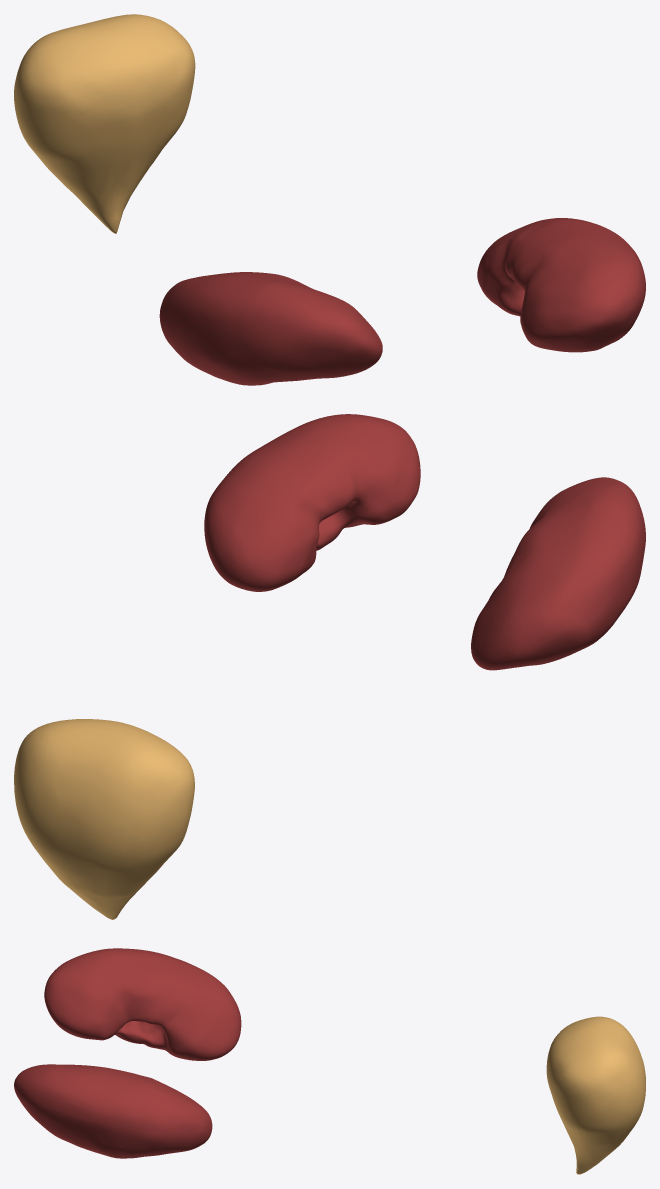
The model's file is urinary.glb.
3 views of the same model, one above another, from view 1: azimuth 30°, elevation 25°; view 2: azimuth 150°, elevation 25°; view 3: azimuth 270°, elevation 25° (orthographic). The views are drawn at different scales.
Parts seen in each view (by area): view 1: Бүйрек, Қуық; view 2: Бүйрек, Қуық; view 3: Бүйрек, Қуық.
Boxes of the visible parts, bbox=[...] form: Бүйрек: bbox=[159, 218, 645, 385]; Қуық: bbox=[14, 14, 195, 233]; Бүйрек: bbox=[204, 414, 645, 670]; Қуық: bbox=[14, 719, 194, 919]; Бүйрек: bbox=[14, 948, 241, 1158]; Қуық: bbox=[546, 1016, 645, 1174].
Size of the model in its own units: 181 by 93.91 by 328.
